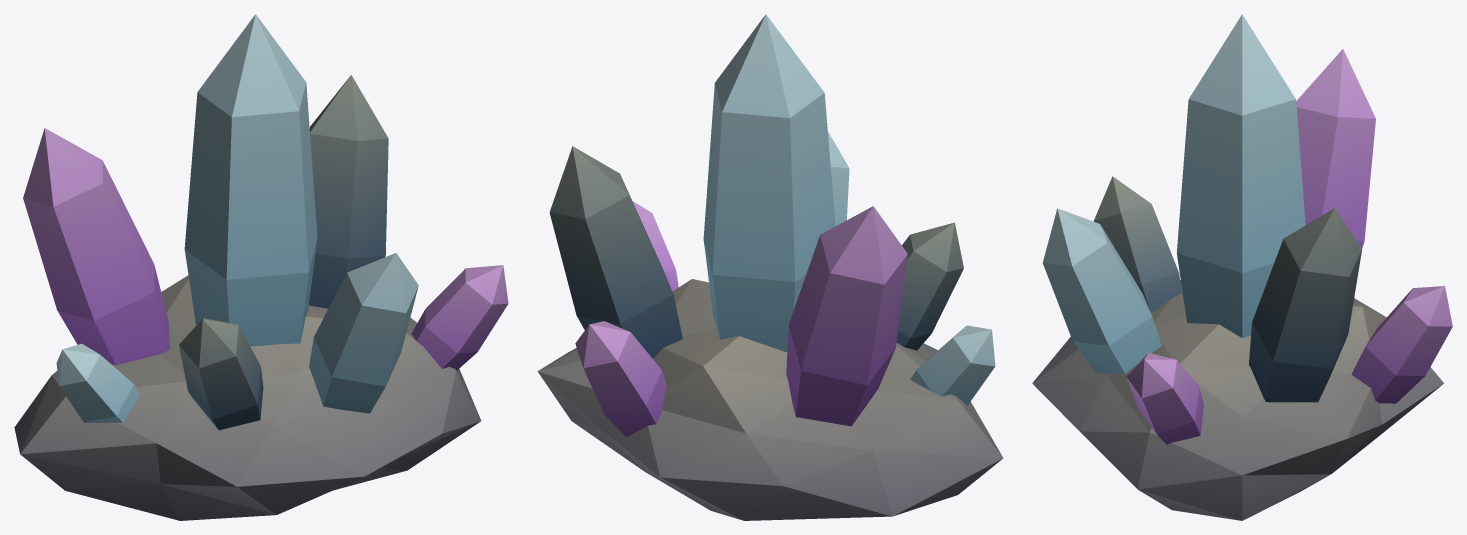
Rendered from res_crystal_raw.glb.
3 renders of one model, left to right at view 1: azimuth 30°, elevation 25°; view 2: azimuth 150°, elevation 25°; view 3: azimuth 270°, elevation 25°, orthographic. The views are drawn at different scales.
Visible parts, largest first — view 1: res_crystal_raw; view 2: res_crystal_raw; view 3: res_crystal_raw.
Part boxes in pixels (x1,y1,x2,y2): res_crystal_raw: (14,14,508,520); res_crystal_raw: (537,14,1003,520); res_crystal_raw: (1032,14,1452,520).
Size of the model in its own units: 4.23 by 4.25 by 3.66.
Materials: 1 (1 with a texture image).
